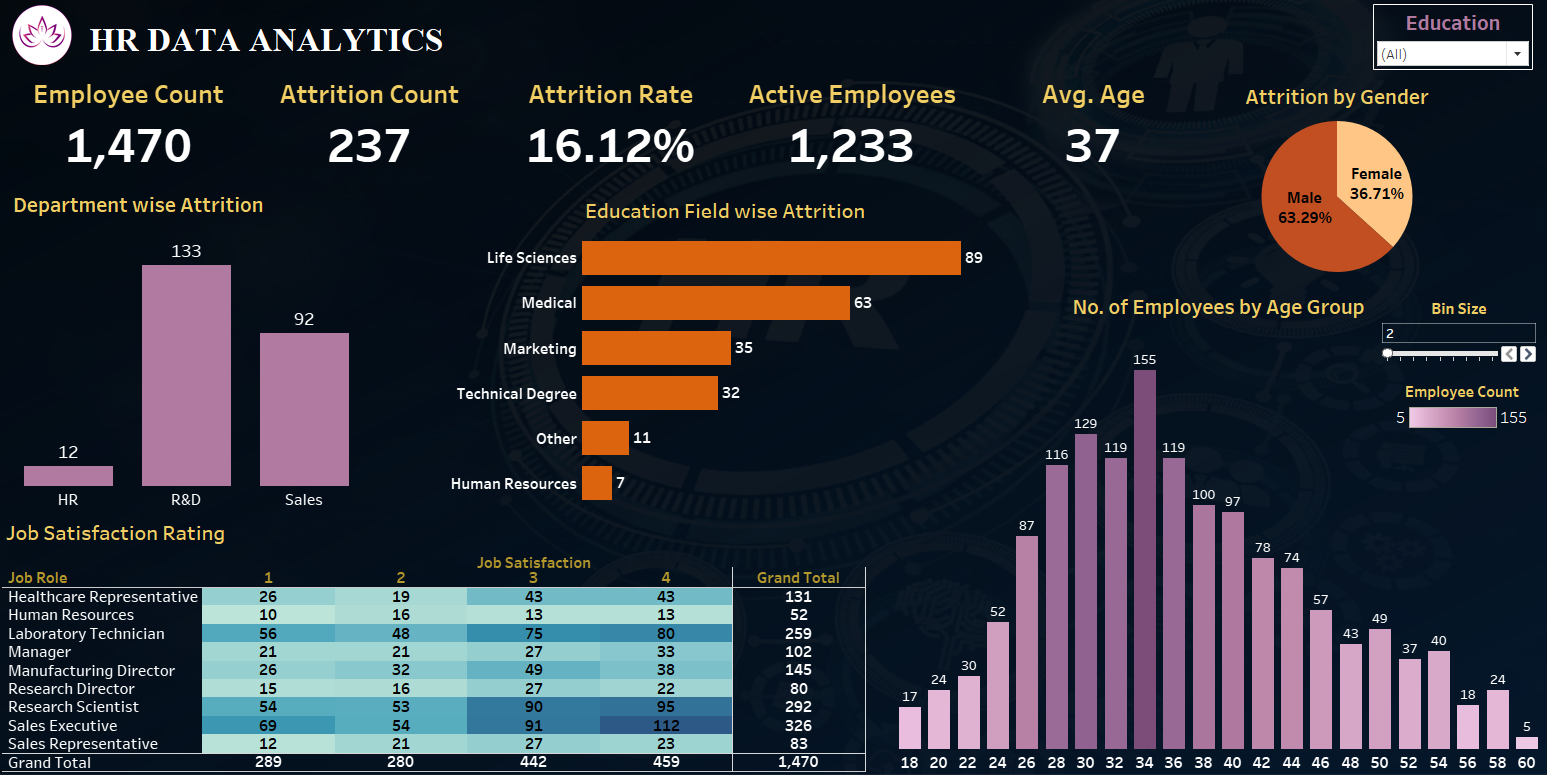

This screenshot's page, from the dashboard's own definition file:
{"tool":"tableau","page":{"name":"Dashboard 1","canvas":[1000,1000],"units":"permille","ordinal":0},"visuals":[{"type":"image","param":"Image/bg1.png","box":[5.1,10,989.9,980]},{"type":"image","param":"Image/logo.png","box":[9.5,21.2,55.1,76.2]},{"type":"filter","title":"Department wise Attrition","param":"[federated.1mih5650cwixov158ot0y03tkkte].[none:Education:nk]","box":[879.1,21.2,101.3,82.5]},{"type":"text","box":[64.6,32.5,235.4,68.8]},{"type":"worksheet","title":"KPI","mark":"Automatic","box":[15.2,103.8,763.3,133.8]},{"type":"worksheet","title":"Attrition by Gender","mark":"Pie","box":[746.2,113.8,220.2,242.5]},{"type":"worksheet","title":"Department wise Attrition","mark":"Automatic","rows":["Calculation_1563312085716348928"],"cols":["Department"],"box":[15.8,248.8,224.7,406.2]},{"type":"worksheet","title":"Education Field wise Attrition","mark":"Automatic","rows":["Education Field"],"cols":["Calculation_1563312085716348928"],"box":[289.9,256.2,358.2,392.5]},{"type":"worksheet","title":"No. of Employees by Age Group","mark":"Automatic","rows":["Employee Count"],"cols":["Age (bin)"],"box":[576.6,376.2,409.5,607.5]},{"type":"parameter","param":"[Parameters].[Parameter 1]","box":[882.9,388.8,101.3,88.8]},{"type":"legend","title":"No. of Employees by Age Group","param":"[federated.1mih5650cwixov158ot0y03tkkte].[sum:Employee Count:qk]","box":[891.1,492.5,88.6,110]},{"type":"worksheet","title":"Job Satisfaction Rating","mark":"Square","rows":["Job Role"],"cols":["Job Satisfaction"],"box":[11.4,658.8,546.8,322.5]}]}

Visuals, with their boxes on the dashboard's canvas, which has no fixed pixel size, in thousandths of its width and height (x1, y1, x2, y2). These are canvas units, not pixel positions in the 1547x775 screenshot, which may show the page scaled, cropped or inside an application window:
image: box=[5, 10, 995, 990]
image: box=[10, 21, 65, 97]
"Department wise Attrition" filter: box=[879, 21, 980, 104]
text: box=[65, 32, 300, 101]
"KPI" worksheet: box=[15, 104, 778, 238]
"Attrition by Gender" worksheet (Pie marks): box=[746, 114, 966, 356]
"Department wise Attrition" worksheet: box=[16, 249, 240, 655]
"Education Field wise Attrition" worksheet: box=[290, 256, 648, 649]
"No. of Employees by Age Group" worksheet: box=[577, 376, 986, 984]
parameter: box=[883, 389, 984, 478]
"No. of Employees by Age Group" legend: box=[891, 492, 980, 602]
"Job Satisfaction Rating" worksheet (Square marks): box=[11, 659, 558, 981]
